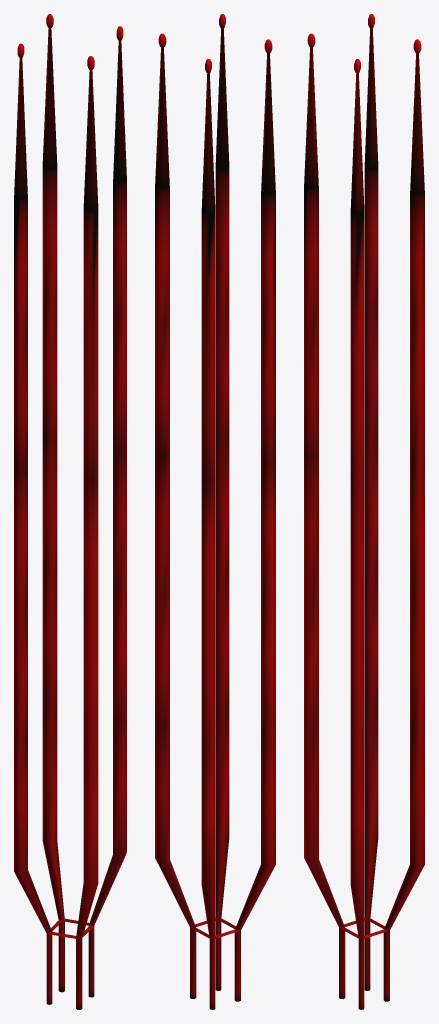
Rendered from Tower_Vertical_2.obj.
3 views of the same model, side by side, from view 1: azimuth 90°, elevation 25°; view 2: azimuth 150°, elevation 25°; view 3: azimuth 330°, elevation 25° (orthographic).
Visible parts, largest first — view 1: TowerVertical_2; view 2: TowerVertical_2; view 3: TowerVertical_2.
Boxes of the visible parts, x1,y1,x2,y2 form: TowerVertical_2: (14, 14, 126, 1009); TowerVertical_2: (155, 14, 275, 1009); TowerVertical_2: (304, 14, 424, 1009).
Bounding box in the file's own units: 1.52 × 14.3 × 1.52.
